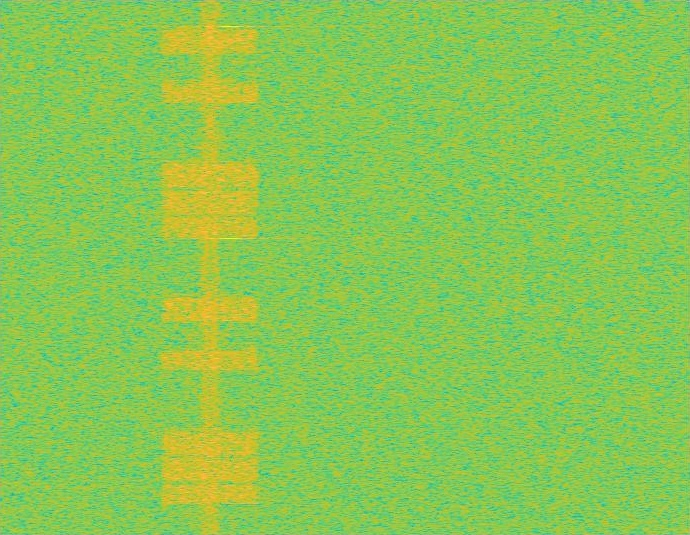DSSS: (199, 0, 222, 534)
LTE: (159, 0, 262, 534)
Radar: (224, 0, 237, 534)
